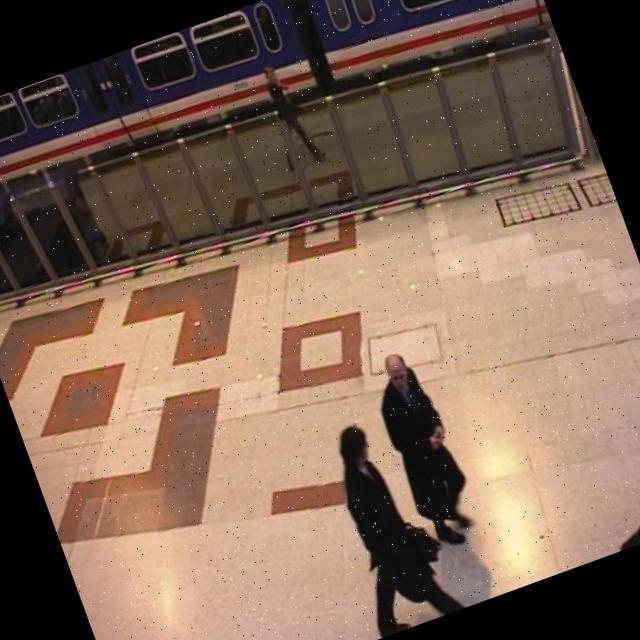person: (306, 402, 474, 640), (356, 336, 492, 560), (247, 54, 334, 184)
